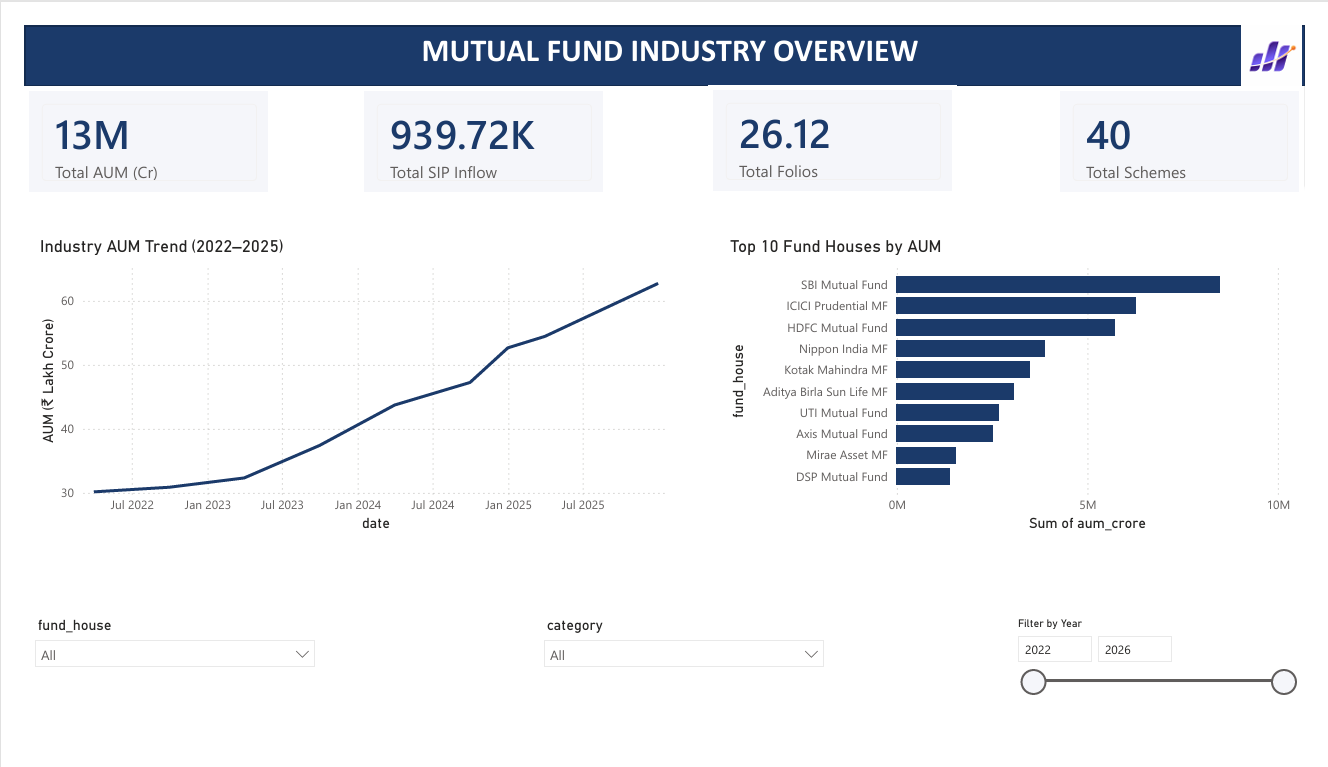

Layout of this report page (visuals, bound fields, positions):
{"tool":"powerbi","page":{"name":"Industry Overview","canvas":[1280,720],"ordinal":0},"visuals":[{"type":"textbox","box":[10,0,1270,720],"z":0},{"type":"shape","box":[0,0,1280,60],"z":1000},{"type":"textbox","box":[100,0,1090,61],"z":2000},{"type":"cardVisual","fields":{"Data":["_Measures.Total AUM (Cr)"]},"box":[0,61,249,111],"z":3000},{"type":"cardVisual","fields":{"Data":["_Measures.Total SIP Inflow"]},"box":[335,61,249,111],"z":4000},{"type":"cardVisual","fields":{"Data":["_Measures.Total Folios"]},"box":[684,60,249,111],"z":5000},{"type":"cardVisual","fields":{"Data":["_Measures.Total Schemes"]},"box":[1031,61,249,111],"z":6000},{"type":"lineChart","title":"Industry AUM Trend (2022–2025)","fields":{"Y":["Sum(03_aum_by_fund_house_clean.aum_lakh_crore)"],"Category":["03_aum_by_fund_house_clean.date"]},"box":[10,210,650,300],"z":7000},{"type":"clusteredBarChart","title":"Top 10 Fund Houses by AUM","fields":{"Category":["03_aum_by_fund_house_clean.fund_house"],"Y":["Sum(03_aum_by_fund_house_clean.aum_crore)"]},"box":[700,210,570,300],"z":8000},{"type":"slicer","fields":{"Values":["01_fund_master_clean.fund_house"]},"box":[0,586,300,134],"z":9000},{"type":"slicer","fields":{"Values":["01_fund_master_clean.category"]},"box":[509,586,300,134],"z":10000},{"type":"slicer","fields":{"Values":["DateTable.Year"]},"box":[980,586,300,134],"z":11000},{"type":"image","box":[1215,0,65,61],"z":12000}]}

Visuals, with their boxes in screenshot pixels (x1, y1, x2, y2), scaled from the page's 1280x720 canvas onto the 1328x767 screenshot:
textbox: (x1=10, y1=0, x2=1327, y2=766)
shape: (x1=0, y1=0, x2=1327, y2=64)
textbox: (x1=104, y1=0, x2=1235, y2=65)
cardVisual - _Measures.Total AUM (Cr): (x1=0, y1=65, x2=258, y2=183)
cardVisual - _Measures.Total SIP Inflow: (x1=348, y1=65, x2=606, y2=183)
cardVisual - _Measures.Total Folios: (x1=710, y1=64, x2=968, y2=182)
cardVisual - _Measures.Total Schemes: (x1=1070, y1=65, x2=1327, y2=183)
"Industry AUM Trend (2022–2025)" lineChart: (x1=10, y1=224, x2=685, y2=543)
"Top 10 Fund Houses by AUM" clusteredBarChart: (x1=726, y1=224, x2=1318, y2=543)
slicer - 01_fund_master_clean.fund_house: (x1=0, y1=624, x2=311, y2=766)
slicer - 01_fund_master_clean.category: (x1=528, y1=624, x2=839, y2=766)
slicer - DateTable.Year: (x1=1017, y1=624, x2=1327, y2=766)
image: (x1=1261, y1=0, x2=1327, y2=65)
